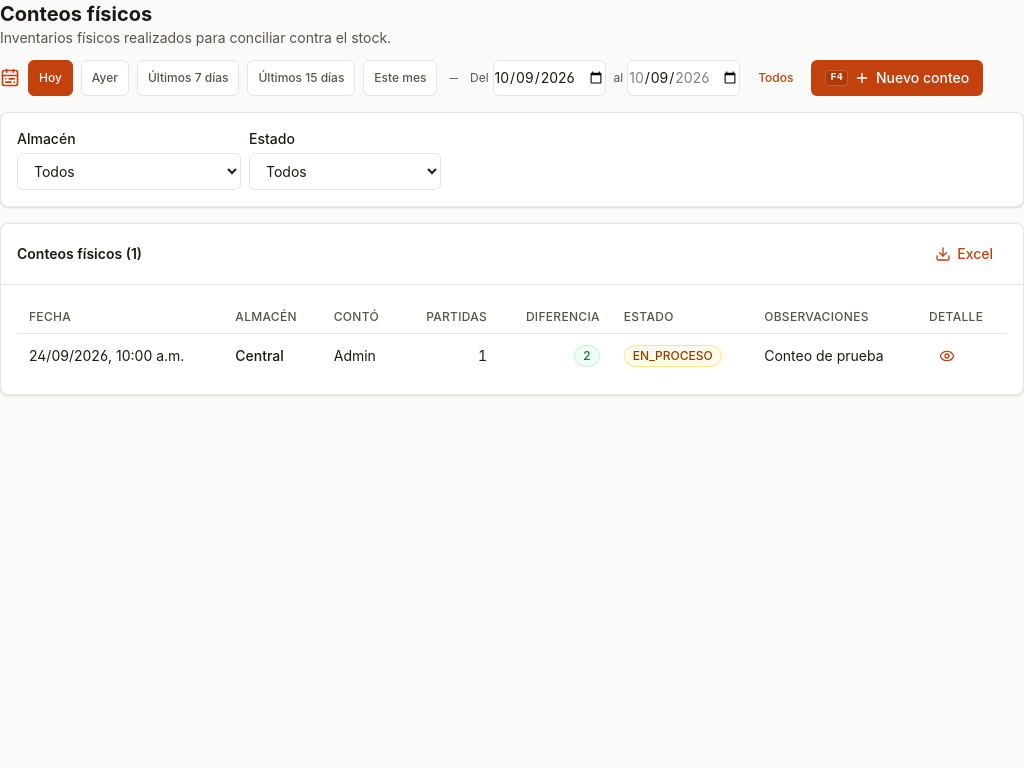
Test case: ConteosPage (smoke) › ver detalle abre el diálogo con las partidas
Click the button named "Ver detalle del conteo 1". click: coordinates (947, 356)
box: [929,342,965,370]
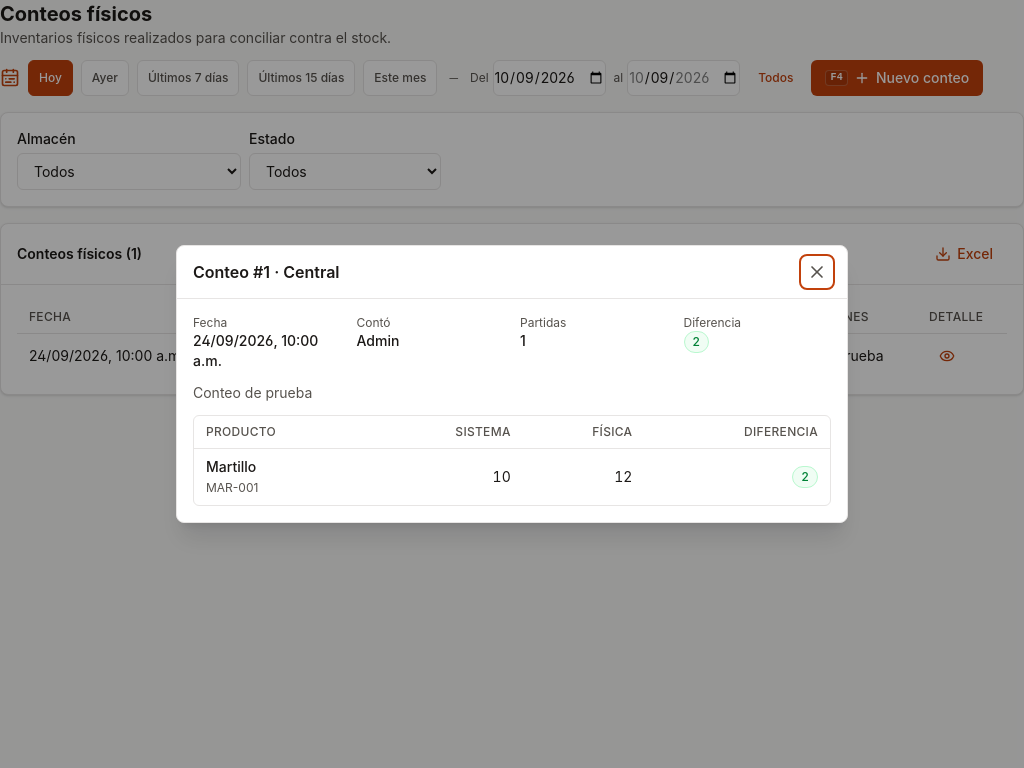
Now the heading "Conteo #1 · Central" is shown, box [193,260,340,284]
Now the text "Martillo" is shown, box [206,458,256,475]
